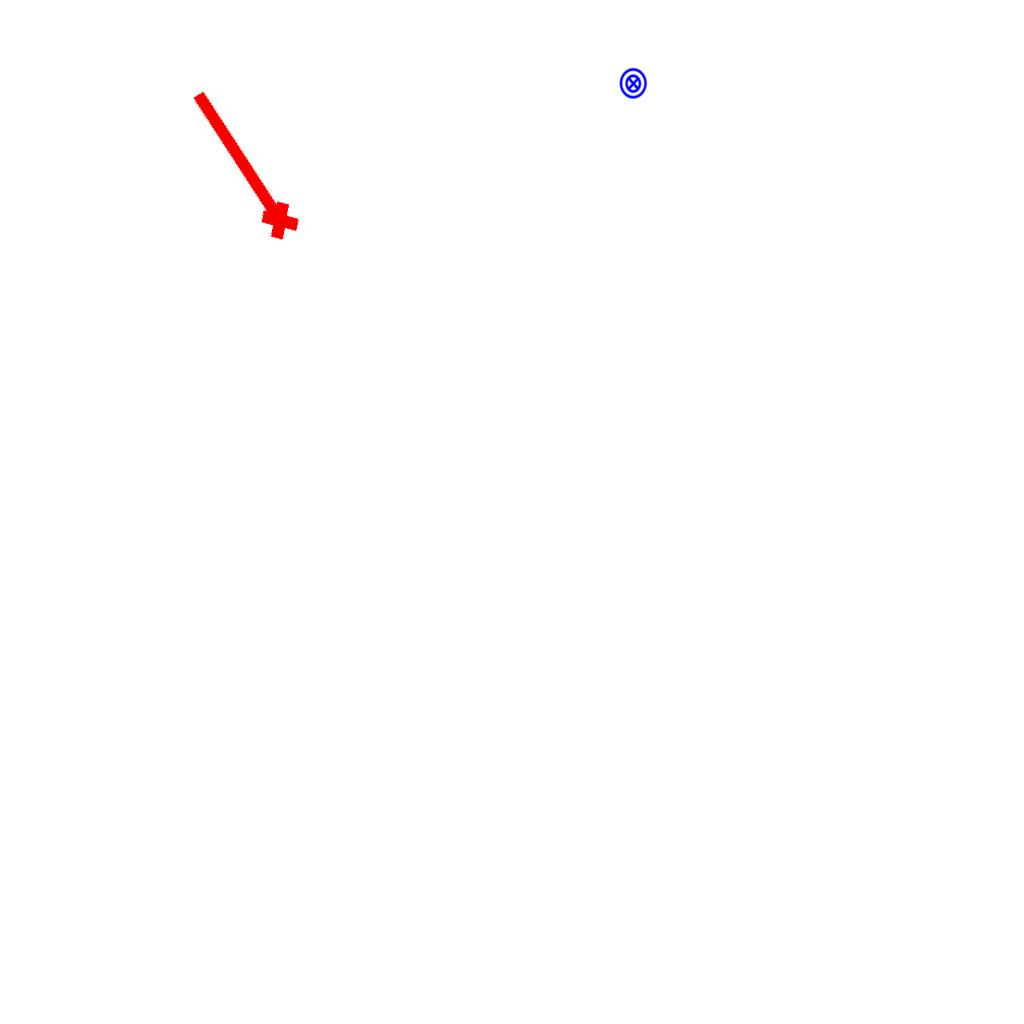ASR_Ansaugoeffnung: (173, 78, 309, 252)
Taster_beleuchtet: (617, 67, 650, 100)
